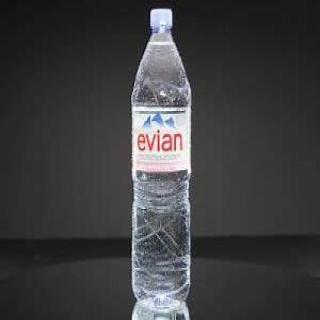Anorganik: (126, 3, 197, 316)
